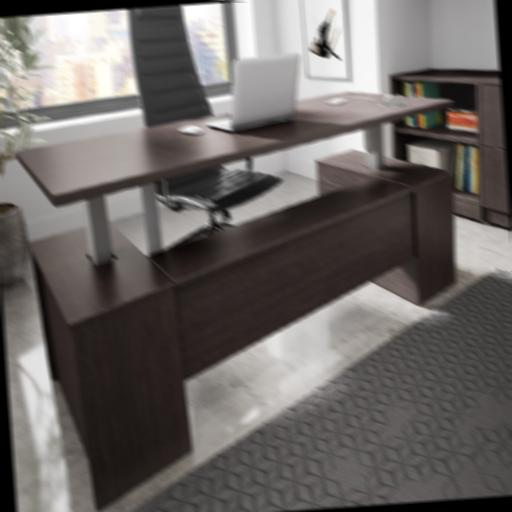chair: (126, 0, 286, 249)
desk: (10, 83, 480, 512)
wall: (0, 0, 290, 249), (270, 0, 388, 186), (372, 0, 440, 159), (426, 0, 500, 75)
